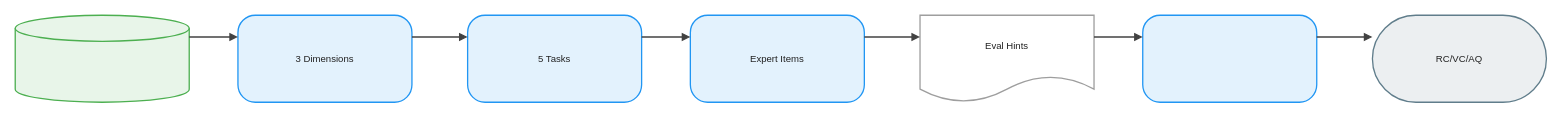
The diagram is 1563 pixels wide and 118 high, and some of its shapes have lost their labels. The shapes that lost their labels are listed below. From the top down, each one's box as (x1, y1, x2, y2) in pixels, then its label:
(14, 14, 189, 102): GFI Theory
(1142, 14, 1317, 102): Model Images
